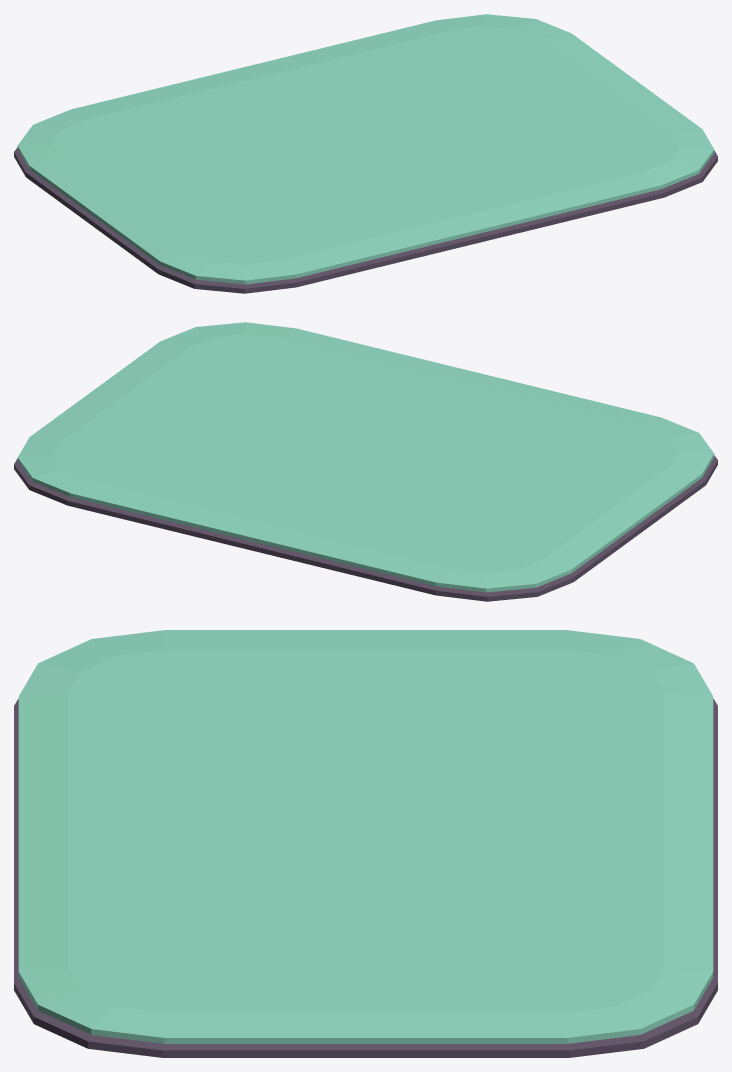
File: grass_patch.glb
3 views of the same model, one above another, from view 1: azimuth 30°, elevation 25°; view 2: azimuth 150°, elevation 25°; view 3: azimuth 270°, elevation 25° (orthographic). The views are drawn at different scales.
Visible parts, largest first — view 1: model; view 2: model; view 3: model.
Boxes of the visible parts, box(x1,y1,x2,y2) form: model: box(14, 14, 717, 293); model: box(14, 322, 717, 601); model: box(14, 630, 717, 1057).
Bounding box in the file's own units: 1.8 × 0.05 × 1.3.
